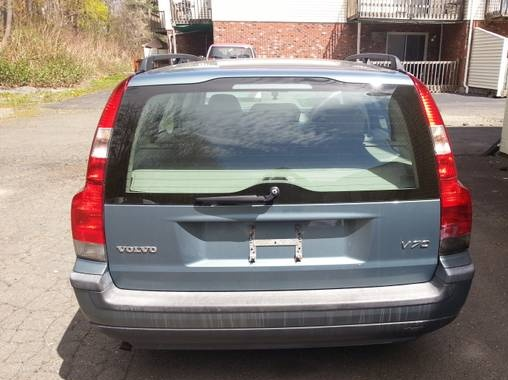volvo: (36, 38, 508, 360)
